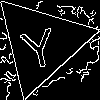Y: (16, 18, 60, 70)
